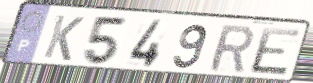4: (126, 18, 164, 69)
5: (80, 15, 135, 67)
9: (172, 23, 208, 70)
E: (248, 26, 304, 78)
K: (41, 13, 86, 63)
R: (207, 24, 255, 75)
